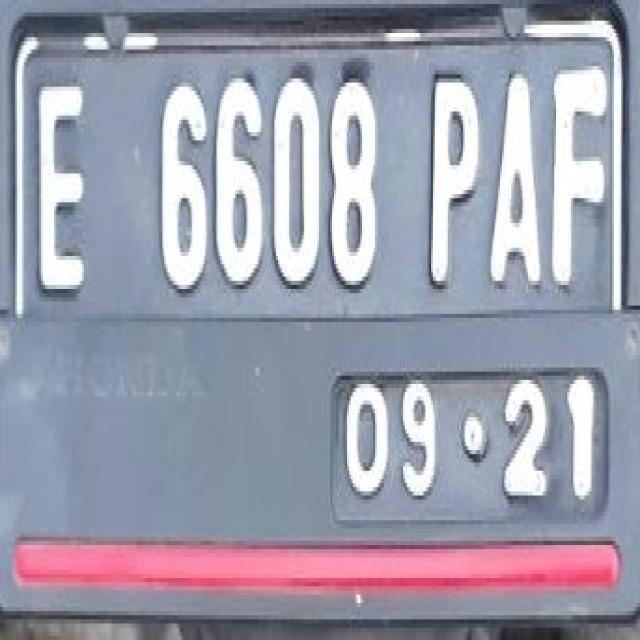plate: (13, 12, 627, 537)
